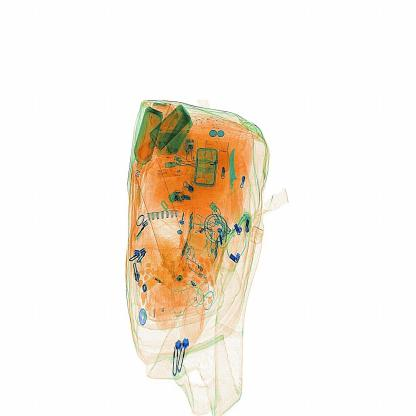wrench: (222, 125, 242, 217)
